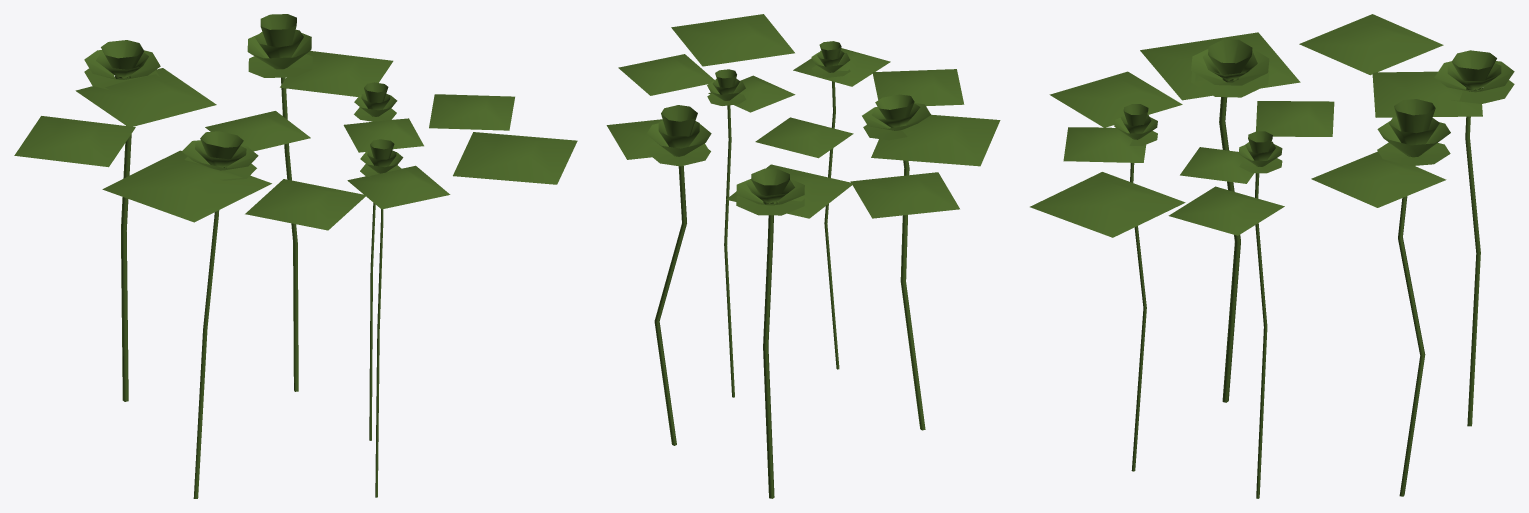
File: Lily Multi.glb
The picture shows the model from 3 angles, left to right: view 1: azimuth 30°, elevation 25°; view 2: azimuth 150°, elevation 25°; view 3: azimuth 270°, elevation 25°; orthographic projection. The views are drawn at different scales.
Parts seen in each view (by area): view 1: Lily Multi; view 2: Lily Multi; view 3: Lily Multi.
Boxes of the visible parts, x1,y1,x2,y2 form: Lily Multi: [14, 14, 577, 498]; Lily Multi: [606, 14, 1000, 498]; Lily Multi: [1030, 14, 1514, 498].
Bounding box in the file's own units: 0.5624 × 0.4506 × 0.5169.
